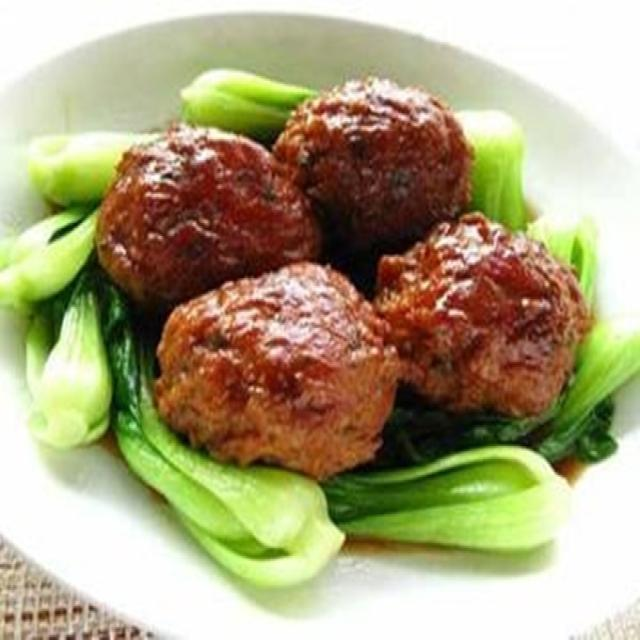猪肉菜式: (35, 34, 600, 572)
